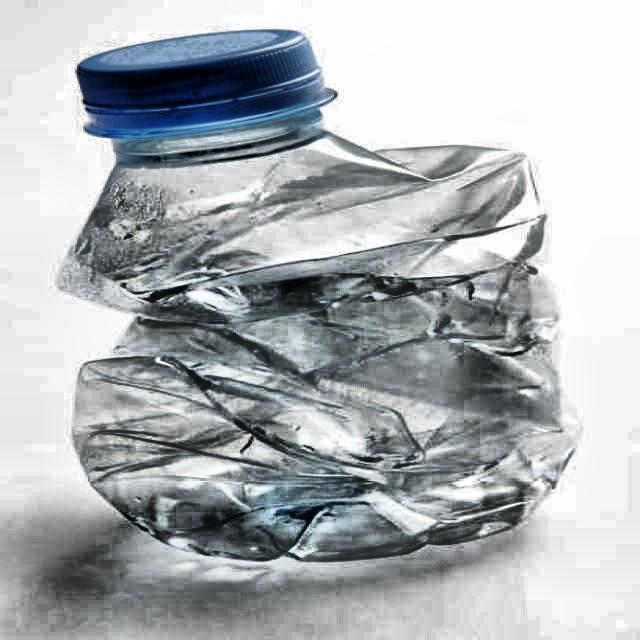plastic: (53, 28, 582, 571)
